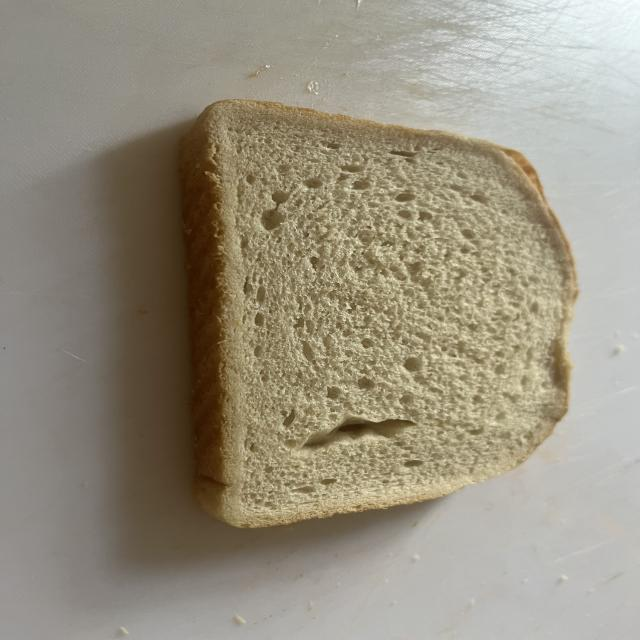sliced_bread: (180, 100, 576, 527)
